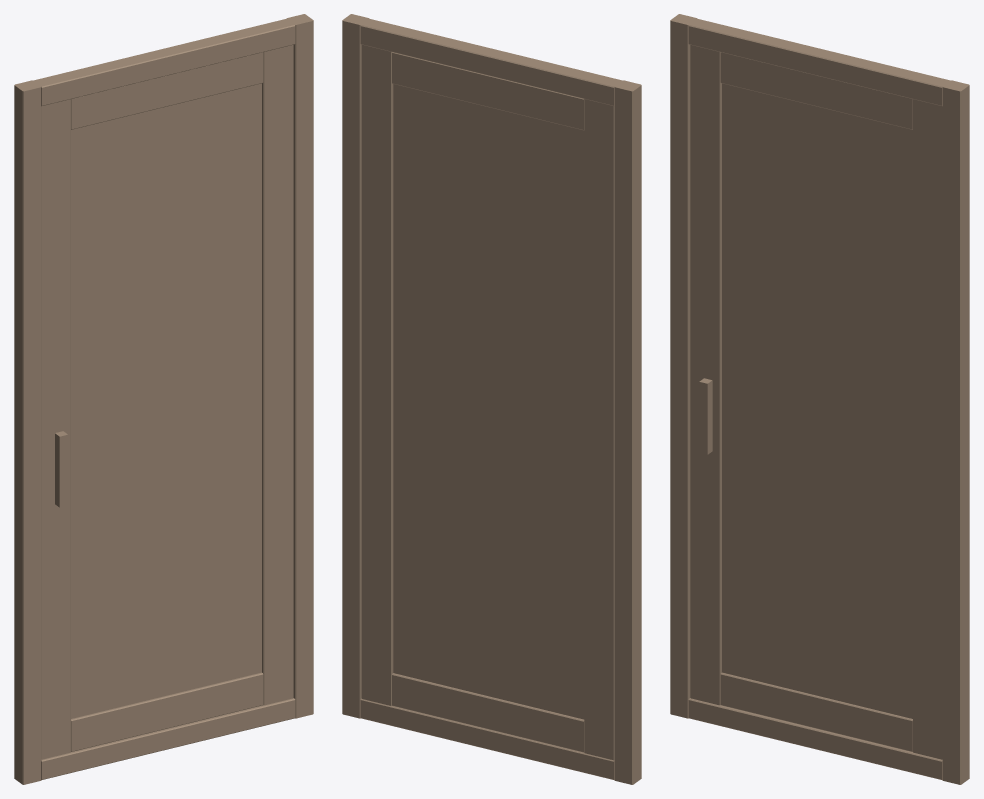
File: bt-A200-1-ferme-quartz-1019.glb
3 renders of one model, left to right at view 1: azimuth 30°, elevation 25°; view 2: azimuth 150°, elevation 25°; view 3: azimuth 330°, elevation 25°, orthographic.
Visible parts, largest first — view 1: panneau, structure; view 2: panneau, structure; view 3: panneau, structure.
Part boxes in pixels (x1=…): panneau: x1=71, y1=83, x2=261, y2=718; structure: x1=14, y1=14, x2=313, y2=784; panneau: x1=393, y1=84, x2=584, y2=719; structure: x1=342, y1=14, x2=641, y2=784; panneau: x1=722, y1=83, x2=912, y2=718; structure: x1=670, y1=14, x2=969, y2=784.
Bounding box in the file's own units: 0.9 × 2.05 × 0.069.
